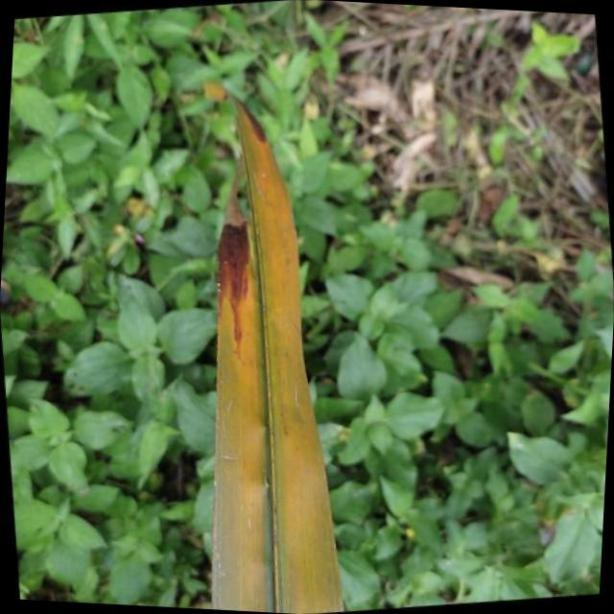Megnesium: (209, 91, 339, 614)
